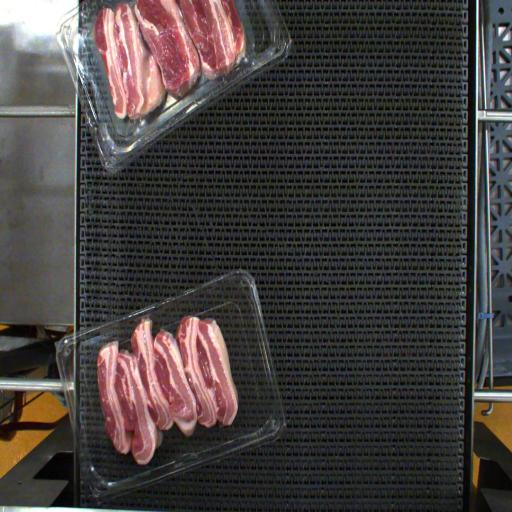packaging-error: (129, 308, 160, 327)
